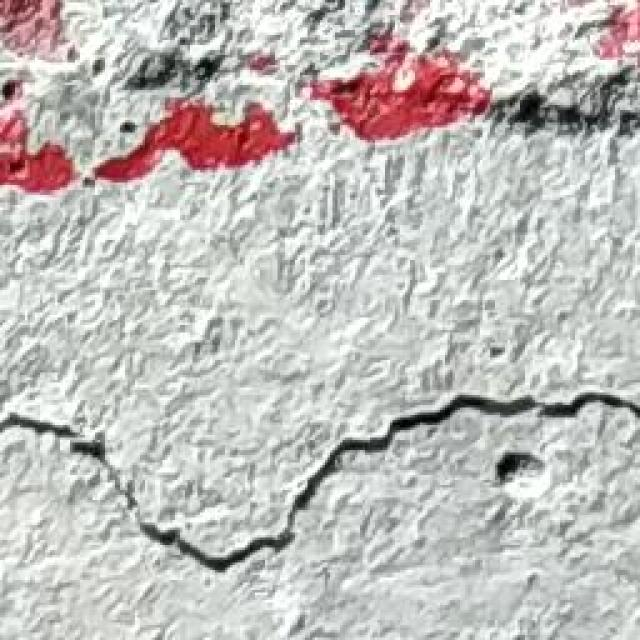Annular: (476, 438, 551, 520)
Transverse: (0, 358, 640, 560)
